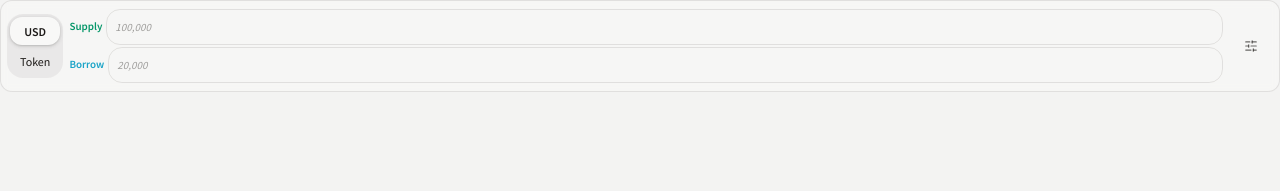
Test case: ScenarioControls › Mobile › toggles Net panel when SlidersHorizontal clicked
This screenshot has width=1280, height=191.
Click the button named "Expand advanced controls".
click(1251, 46)  # box left=1229, top=24, right=1273, bottom=68
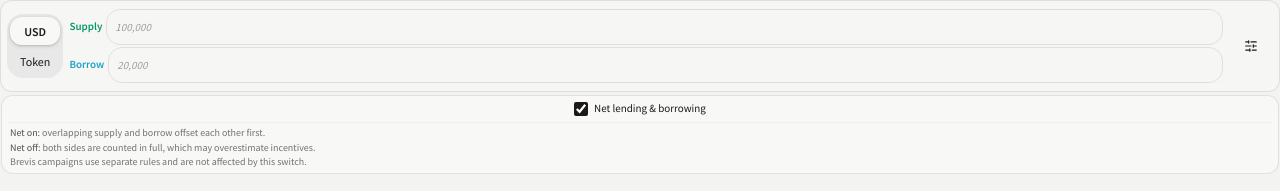
Now the button named "Collapse advanced controls" is shown, box left=1229, top=24, right=1273, bottom=68
Now the checkbox named "Net lending and borrowing for incentives" is shown, box left=574, top=102, right=588, bottom=116
